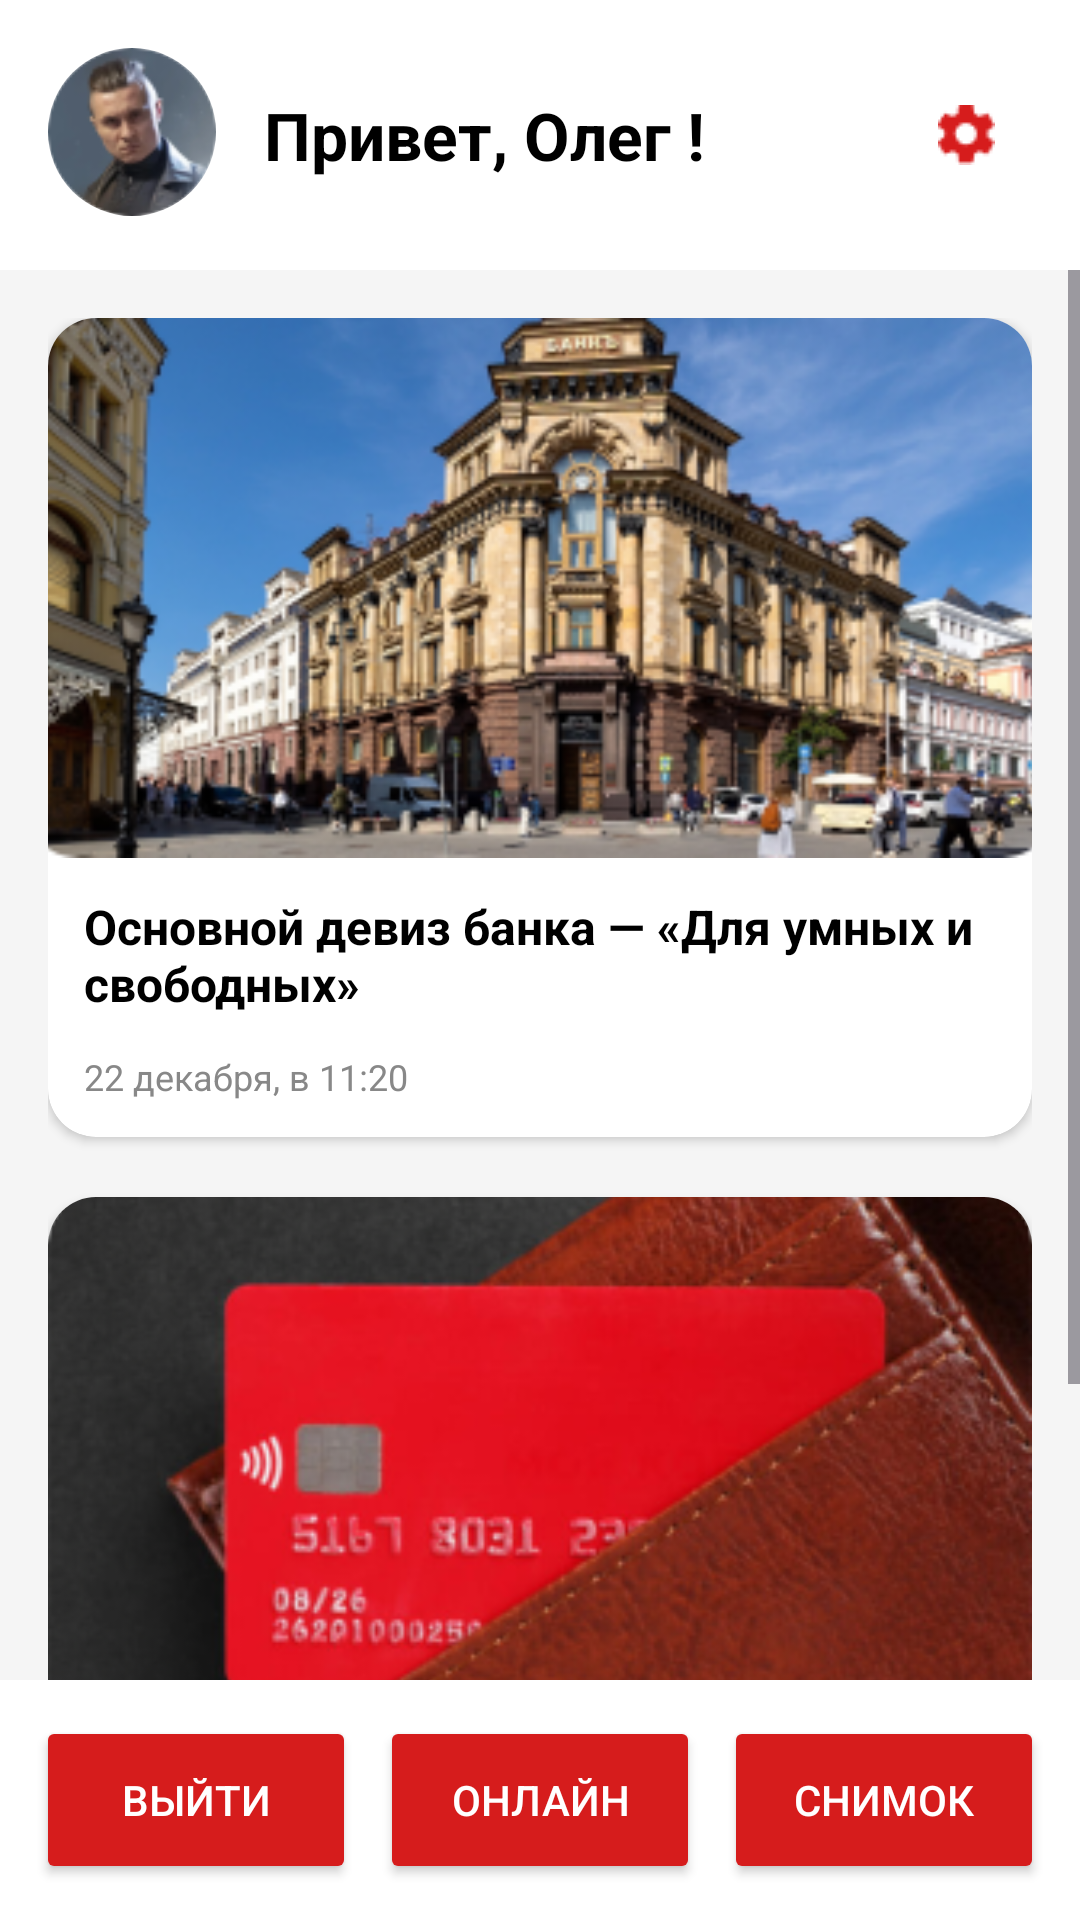

Named icons in this screenshot (1080w x 1920h) and their centers, point (x, y):
Аватар пользователя: point (132, 132)
Настройки: point (966, 135)
